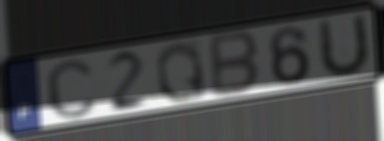2: (102, 49, 149, 114)
6: (267, 24, 313, 87)
B: (208, 28, 261, 102)
C: (43, 56, 100, 122)
Q: (153, 39, 209, 105)
U: (317, 10, 372, 82)
